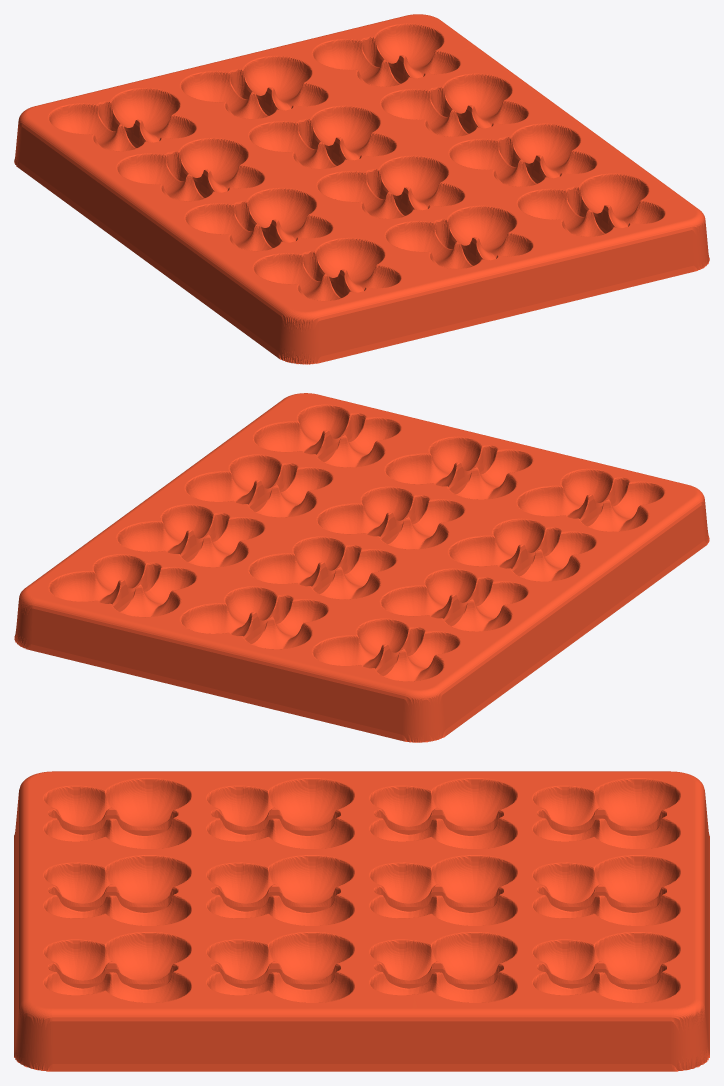
Rendered from mold.glb.
3 views of the same model, one above another, from view 1: azimuth 30°, elevation 25°; view 2: azimuth 150°, elevation 25°; view 3: azimuth 270°, elevation 25° (orthographic). The views are drawn at different scales.
Parts seen in each view (by area): view 1: geometry_0; view 2: geometry_0; view 3: geometry_0.
Part boxes in pixels (x1=…): geometry_0: x1=14, y1=14, x2=709, y2=364; geometry_0: x1=14, y1=393, x2=709, y2=742; geometry_0: x1=14, y1=771, x2=709, y2=1071.
Size of the model in its own units: 0.1374 by 0.0145 by 0.1621.
